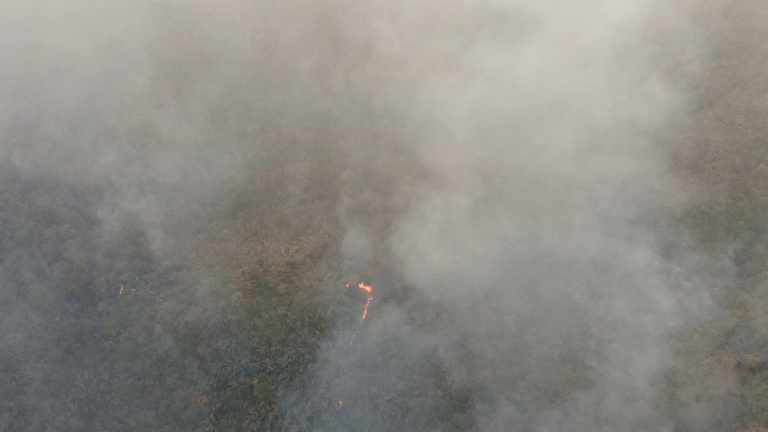fire: (331, 279, 376, 327), (111, 281, 127, 302), (335, 399, 348, 407)
smoke: (317, 1, 696, 430), (1, 149, 212, 430), (1, 1, 337, 155)
